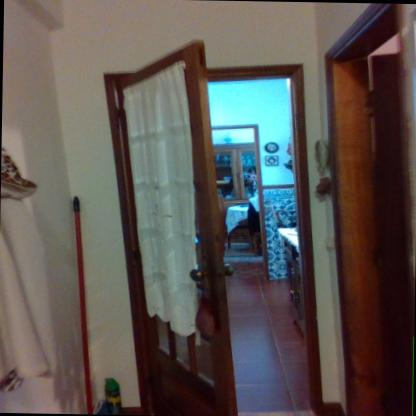semi: (88, 33, 329, 416)
